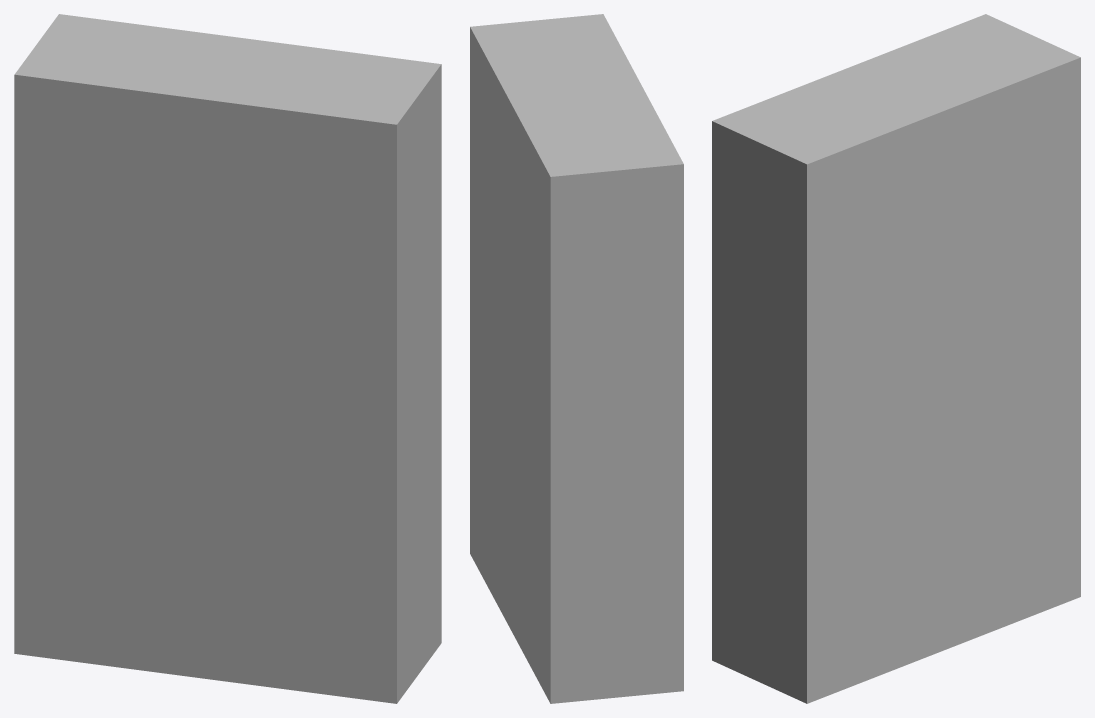
The model's file is Metal.glb.
3 renders of one model, left to right at view 1: azimuth 30°, elevation 25°; view 2: azimuth 150°, elevation 25°; view 3: azimuth 270°, elevation 25°, orthographic. The views are drawn at different scales.
Visible parts, largest first — view 1: node_id6; view 2: node_id6; view 3: node_id6.
Boxes of the visible parts, x1,y1,x2,y2 form: node_id6: [14, 14, 441, 703]; node_id6: [470, 14, 683, 703]; node_id6: [712, 14, 1080, 703].
Bounding box in the file's own units: 0.0857 × 0.1433 × 0.0888.
Materials: 1 (1 with a texture image).
